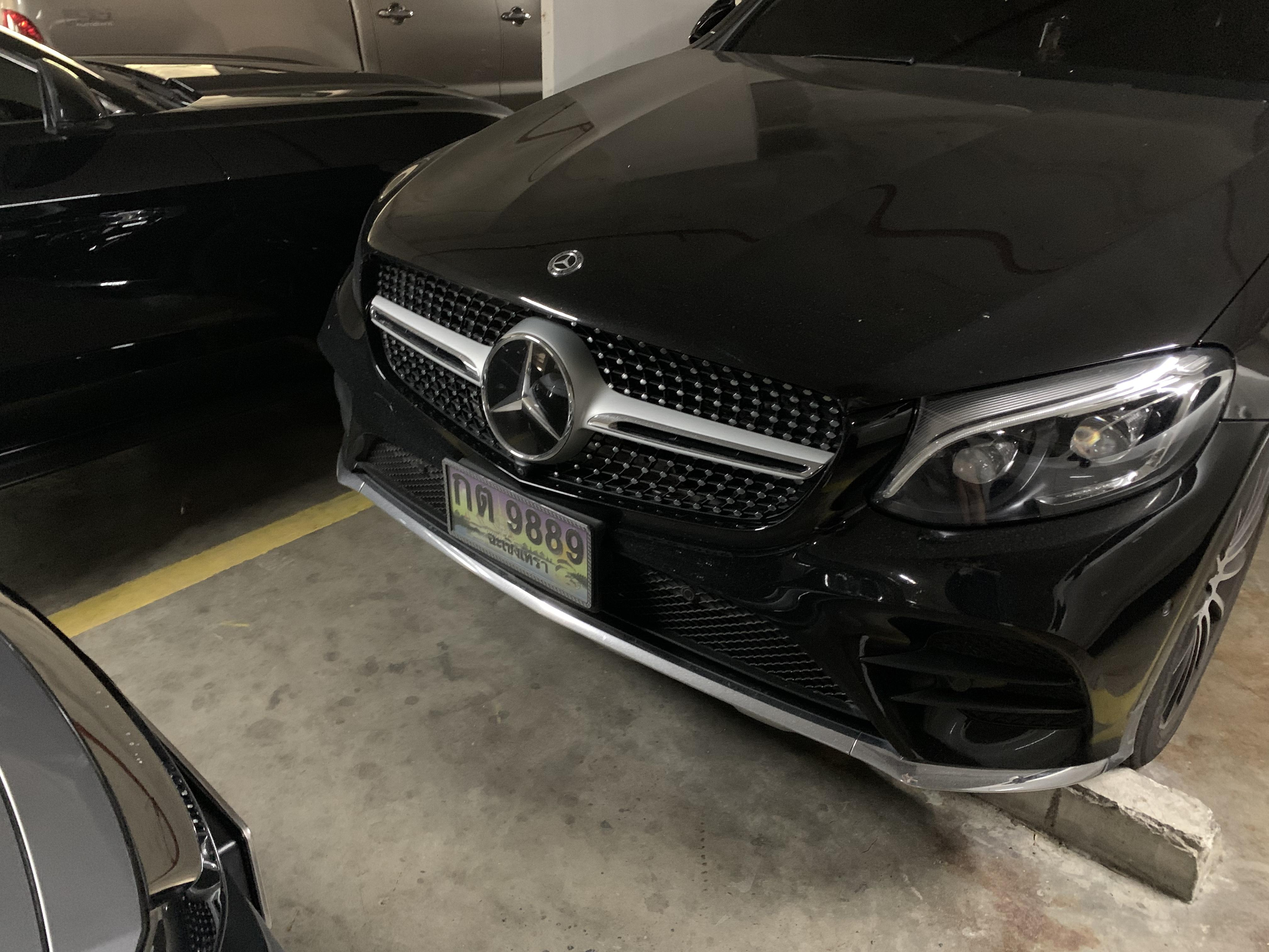license-plate: (438, 450, 598, 616)
